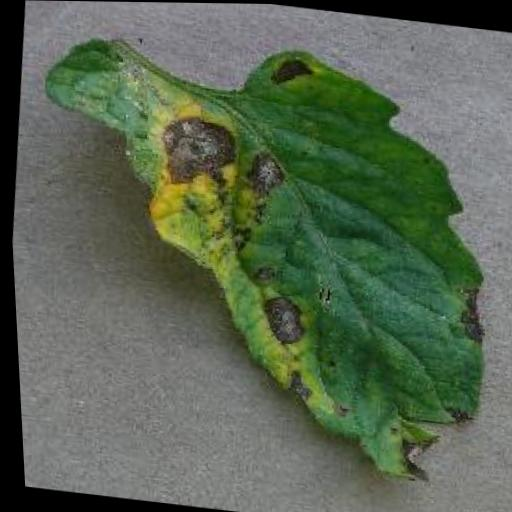Early Blight: (6, 21, 512, 493)
